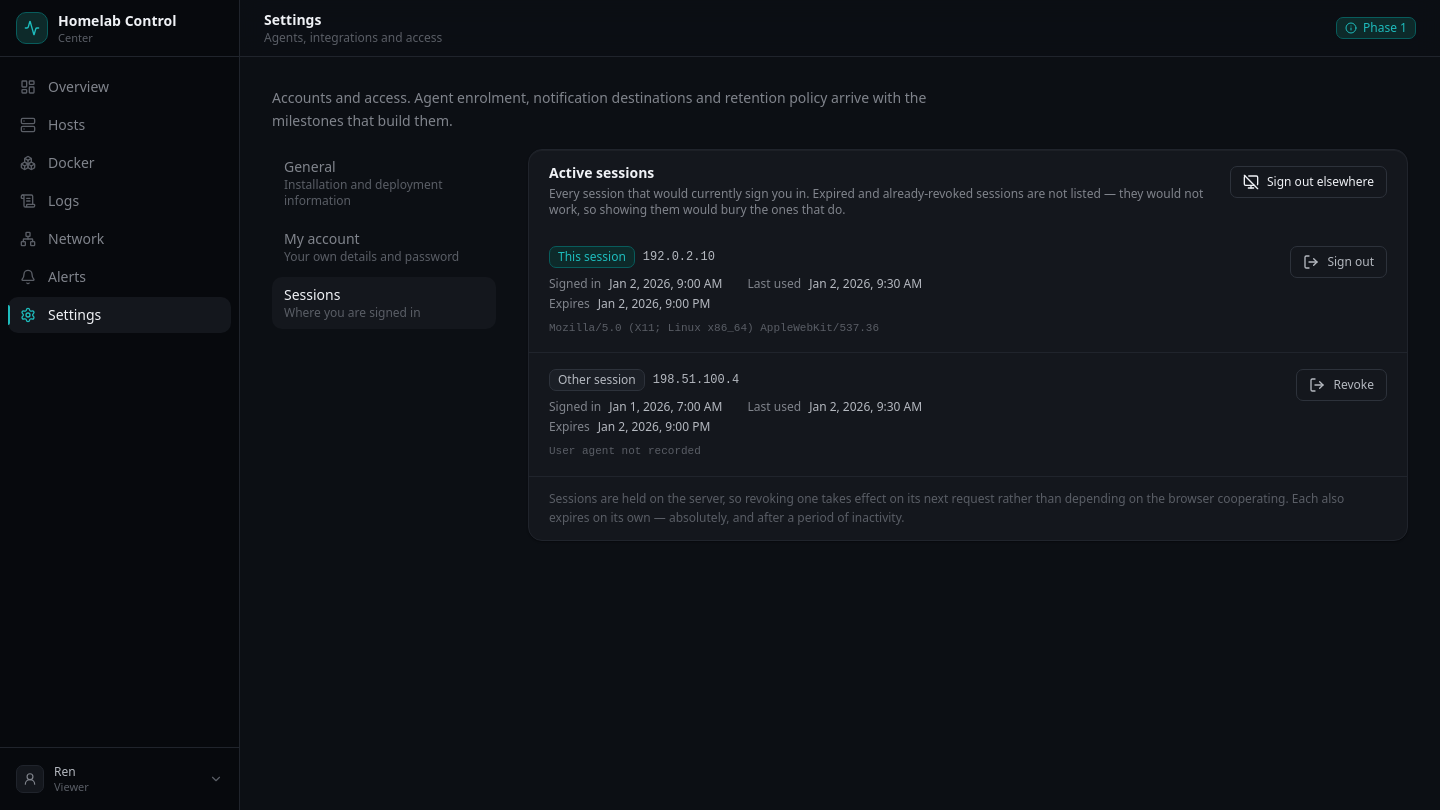
Scenario: revoking another session › surfaces a failure rather than removing the row anyway
Check: the heading "Active sessions" is shown, box [549, 162, 654, 182]
Click the button with aria-label "Revoke the session signed in". click: coordinates (1342, 385)
box: [1296, 369, 1387, 401]
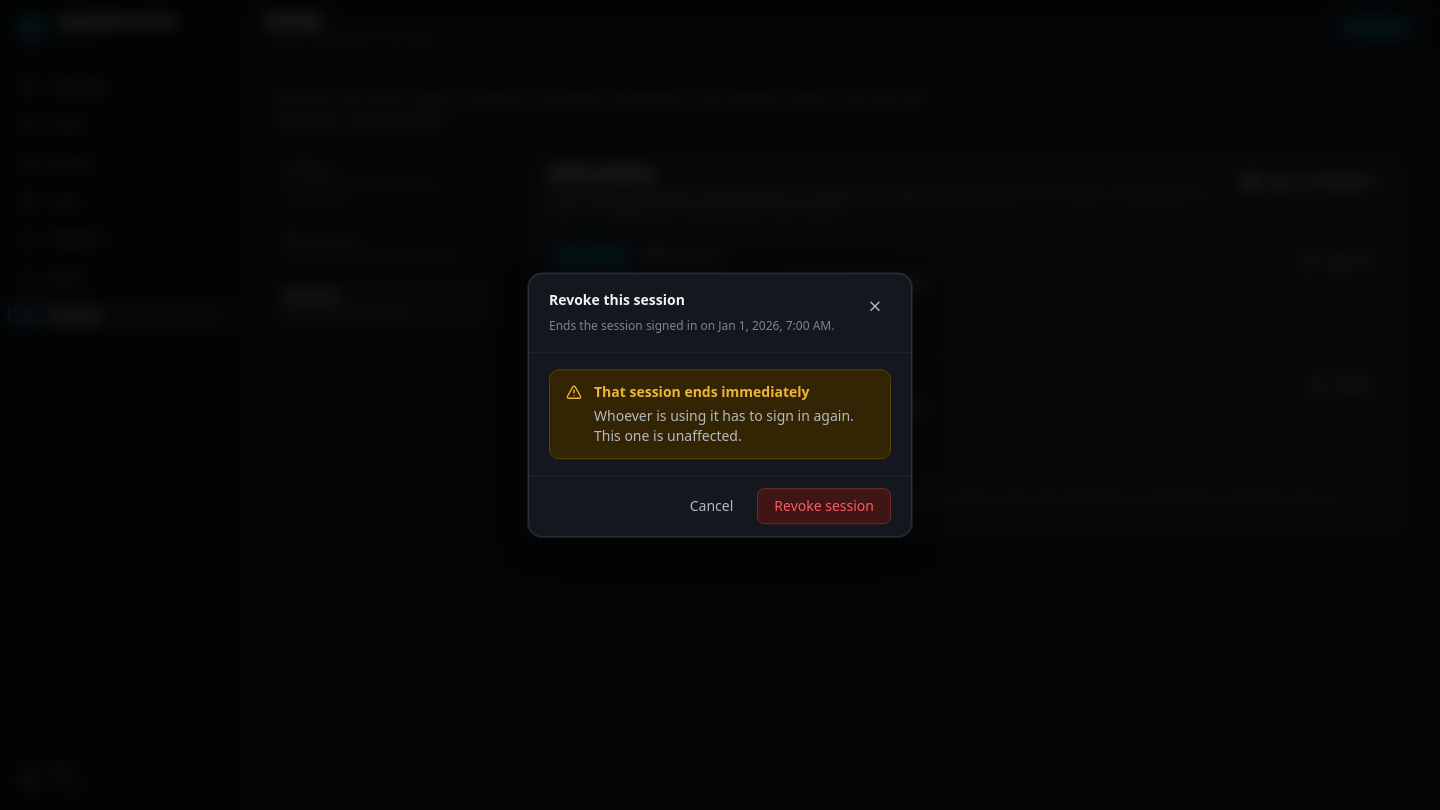
Click the button "Revoke session". click: coordinates (824, 506)
box: [757, 488, 891, 524]
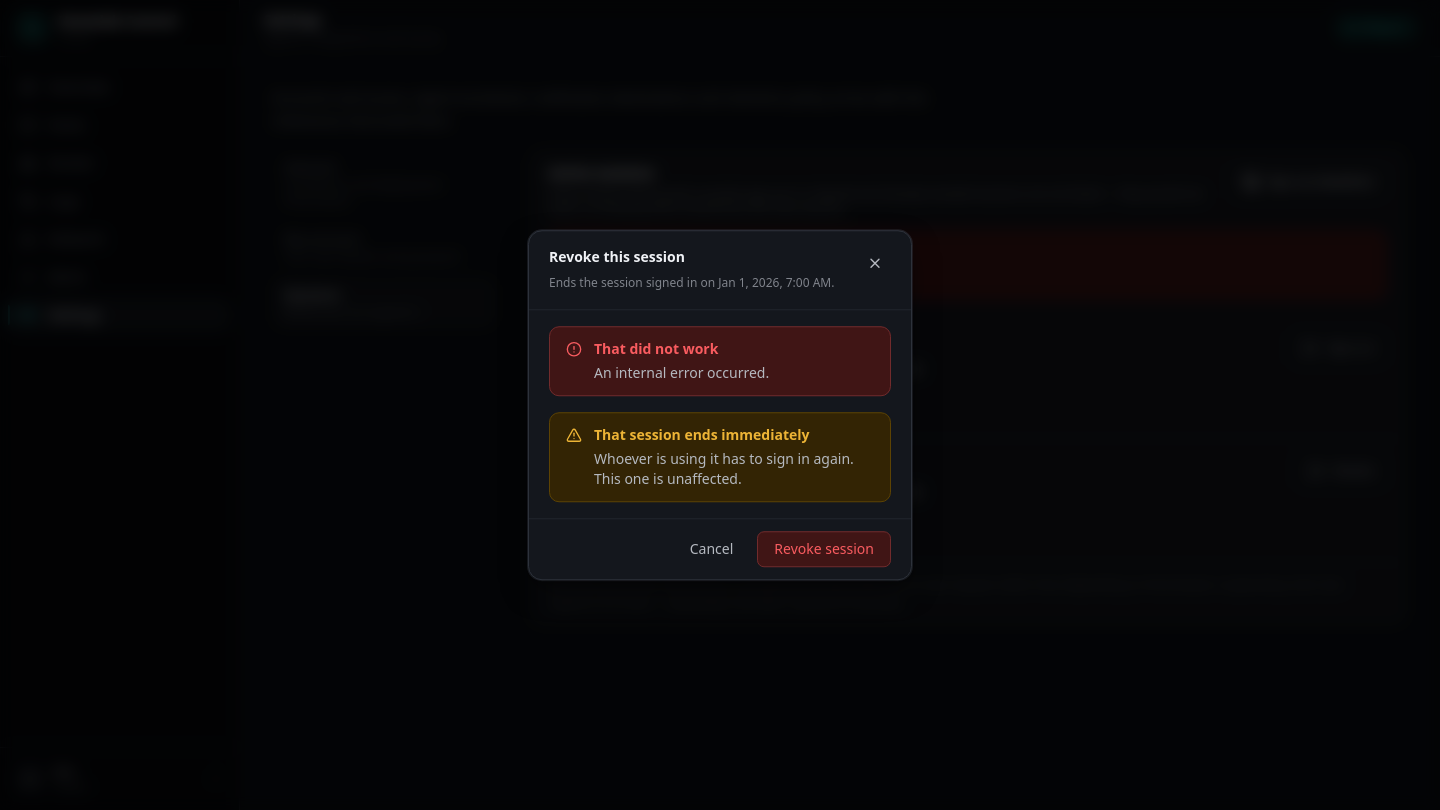
Check: the text "Other session" is shown, box [549, 455, 645, 477]
Check: the text "An internal error occurred." is shown, box [594, 363, 769, 382]
